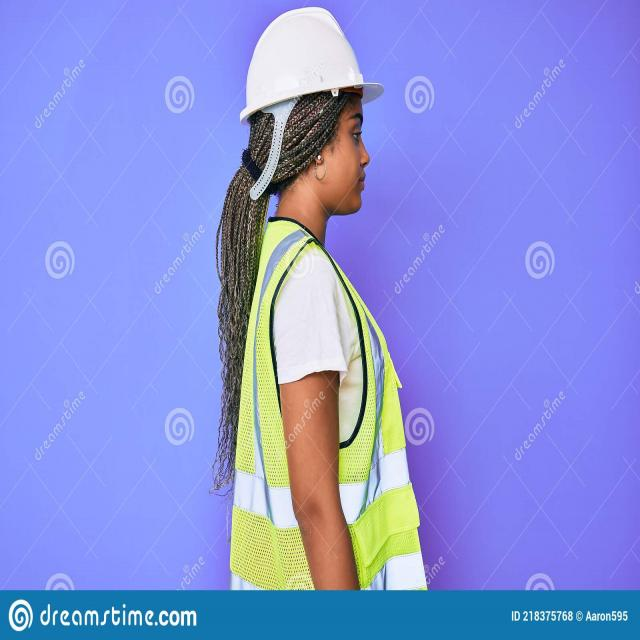Reflective-Jacket: (223, 225, 422, 585)
Safety-Helmet: (238, 3, 382, 127)
